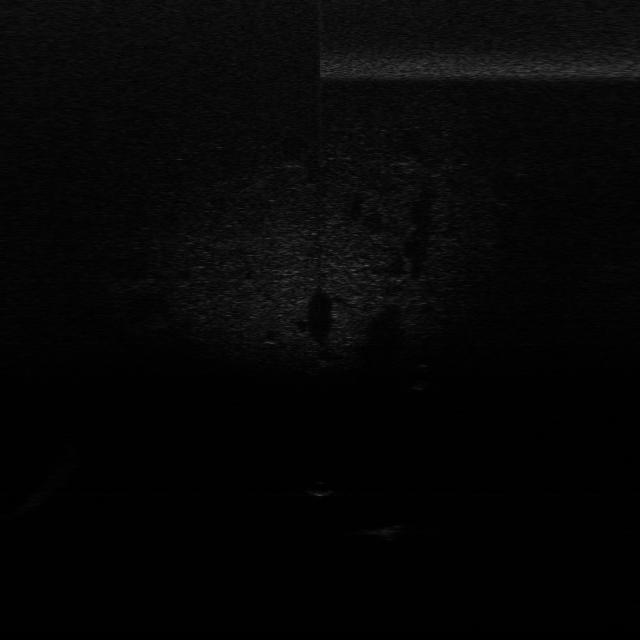ball: (304, 482, 334, 499)
square cage: (360, 521, 404, 542)
tyre: (406, 360, 436, 390)
